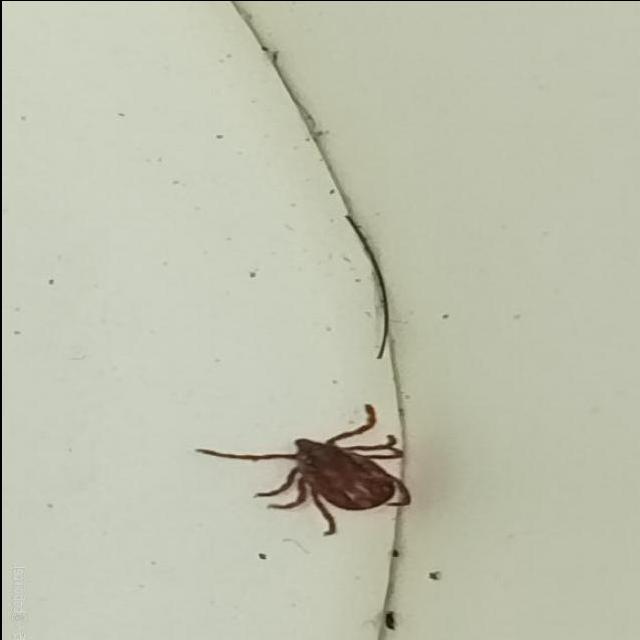Rhipicephalus Sanguineus-M: (192, 403, 409, 535)
